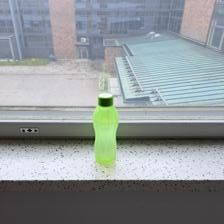bottle: (88, 90, 123, 166)
